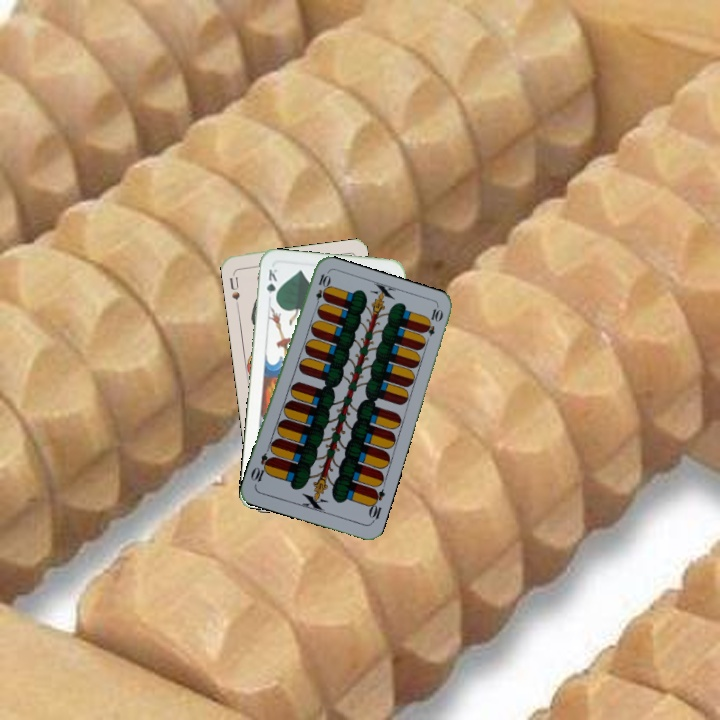E10: (364, 485, 387, 525), (311, 270, 331, 310)
GK: (262, 265, 280, 304)
SU: (226, 269, 242, 310)
